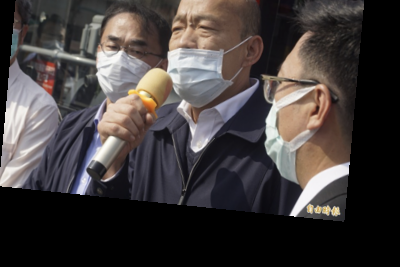mask_weared_incorrect: (165, 1, 262, 109)
